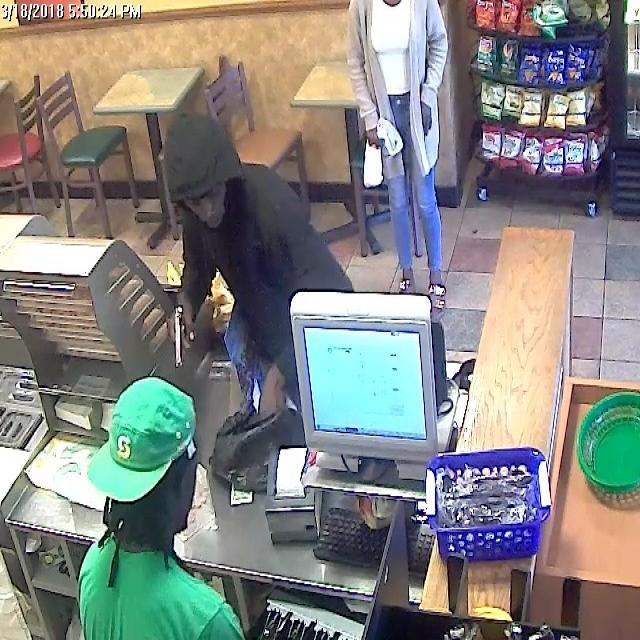weapon: (162, 301, 200, 372)
